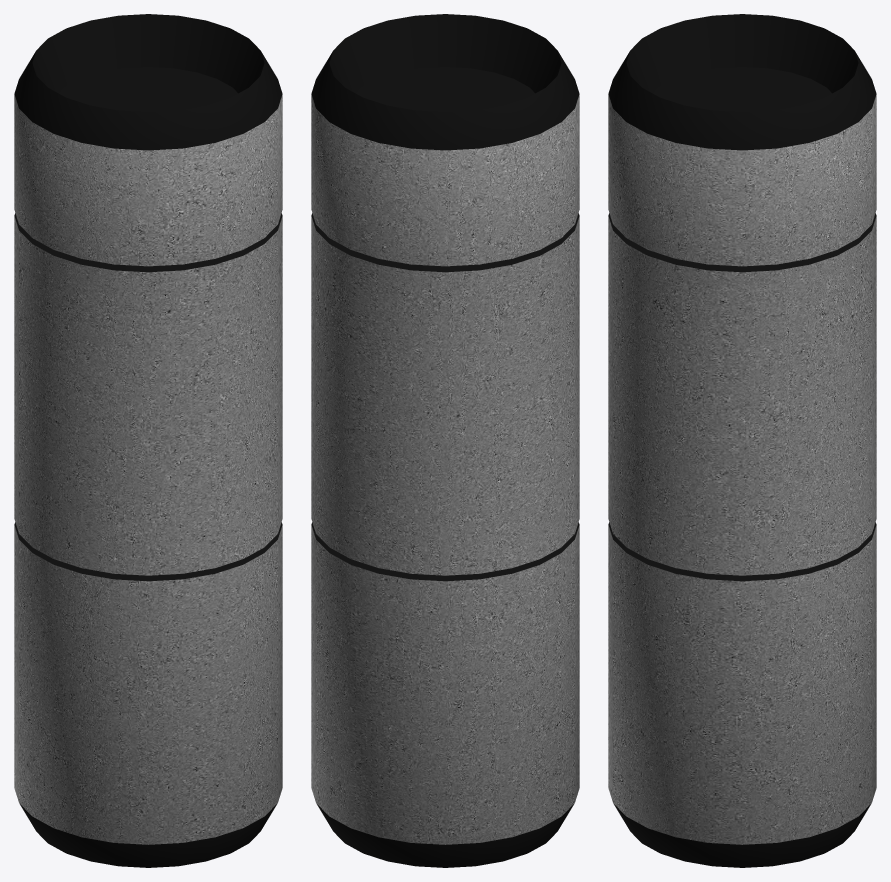
File: FBX_ModuleLong.fbx
3 renders of one model, left to right at view 1: azimuth 30°, elevation 25°; view 2: azimuth 150°, elevation 25°; view 3: azimuth 270°, elevation 25°, orthographic.
Parts seen in each view (by area): view 1: Module Long Export; view 2: Module Long Export; view 3: Module Long Export.
Part boxes in pixels (x1,y1,x2,y2): Module Long Export: (14,14,282,867); Module Long Export: (311,14,579,867); Module Long Export: (608,14,876,867).
Size of the model in its own units: 1.4 by 1.4 by 4.35.
